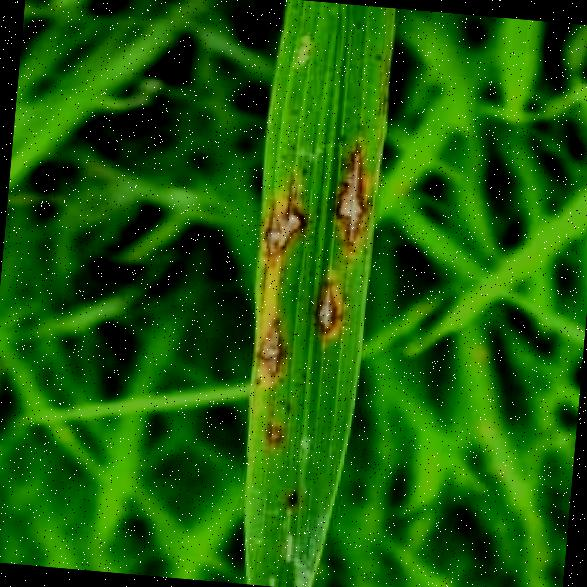Leaf_smut: (231, 122, 380, 524)
